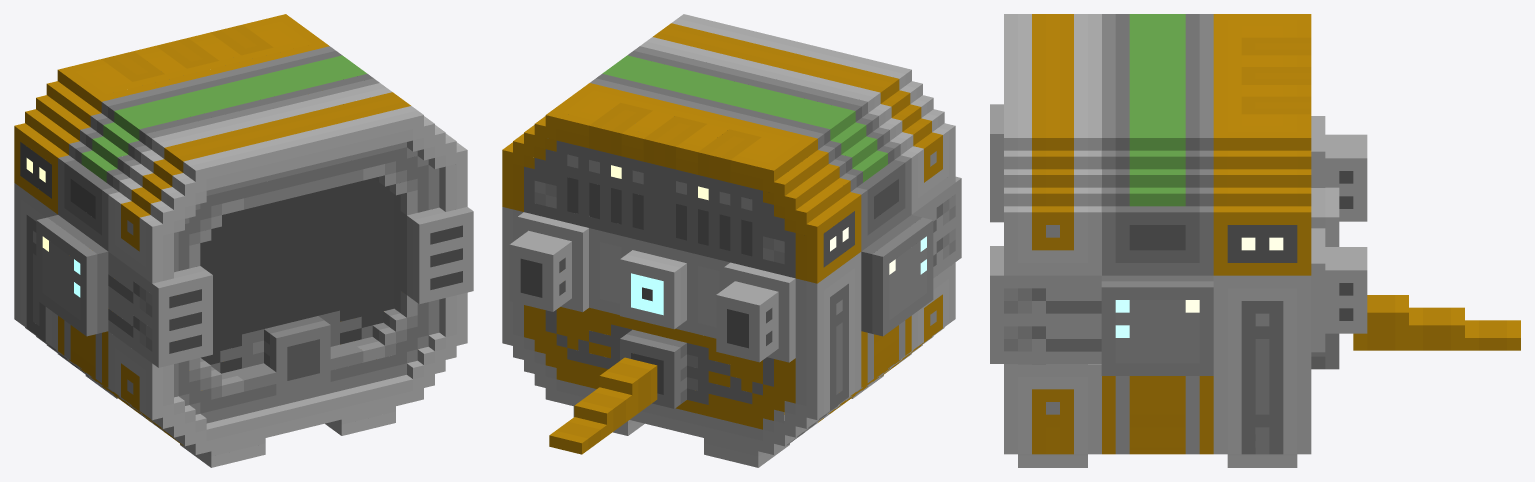
The model's file is Body_3.glb.
3 renders of one model, left to right at view 1: azimuth 30°, elevation 25°; view 2: azimuth 150°, elevation 25°; view 3: azimuth 270°, elevation 25°, orthographic. The views are drawn at different scales.
Parts seen in each view (by area): view 1: model_body-0_17_5_0; view 2: model_body-0_17_5_0, model_body-1_15_4_0, model_body-2_13_3_0; view 3: model_body-0_17_5_0, model_body-1_15_4_0, model_body-2_13_3_0.
Part boxes in pixels (x1,y1,x2,y2): model_body-0_17_5_0: (14,14,473,467); model_body-0_17_5_0: (502,14,961,467); model_body-1_15_4_0: (574,357,657,435); model_body-2_13_3_0: (549,417,606,454); model_body-0_17_5_0: (990,14,1367,467); model_body-1_15_4_0: (1353,295,1464,350); model_body-2_13_3_0: (1465,320,1520,350).
Bounding box in the file's own units: 3.3 × 2.7 × 3.8.
